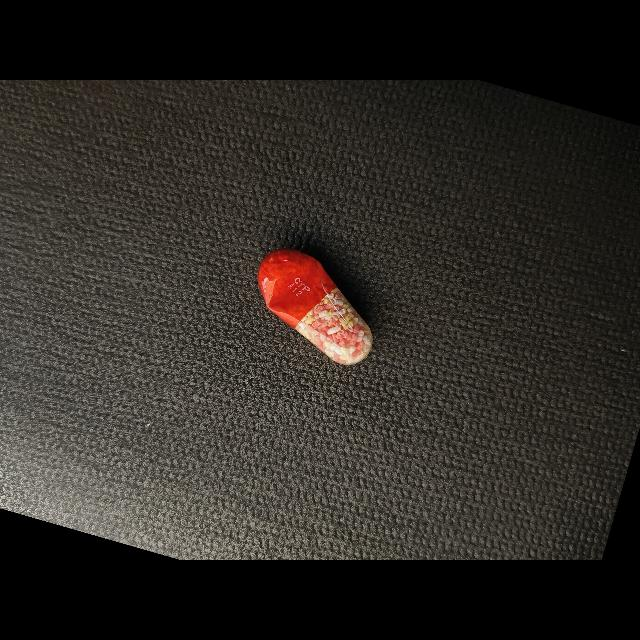Defective Capsule: (258, 250, 373, 365)
